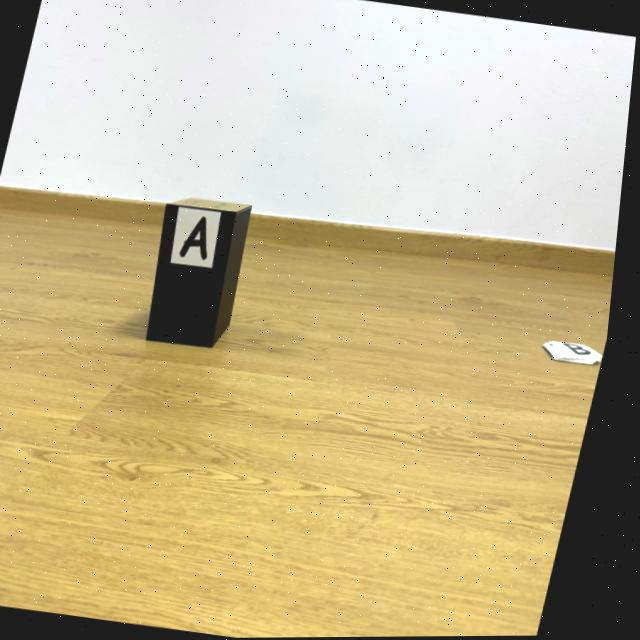A: (185, 218, 213, 260)
